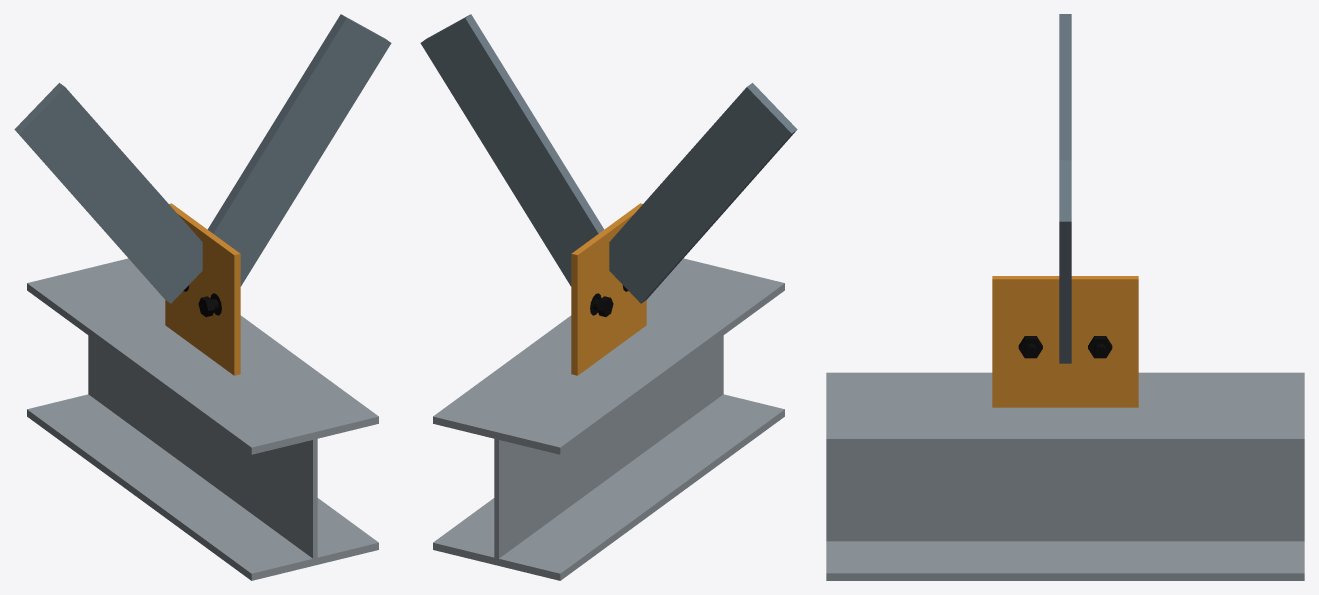
File: detail_F_bracing_connection.obj
The picture shows the model from 3 angles, left to right: view 1: azimuth 30°, elevation 25°; view 2: azimuth 150°, elevation 25°; view 3: azimuth 270°, elevation 25°; orthographic projection. The views are drawn at different scales.
Visible parts, largest first — view 1: F_column_flange_far, F_column_flange_near, F_column_web, F_L90x90x8_brace_right, F_L90x90x8_brace_left, F_PL10_gusset_plate; view 2: F_column_flange_far, F_column_flange_near, F_column_web, F_L90x90x8_brace_right, F_L90x90x8_brace_left, F_PL10_gusset_plate; view 3: F_column_web, F_column_flange_far, F_column_flange_near, F_PL10_gusset_plate, F_L90x90x8_brace_right, F_L90x90x8_brace_left.
Part boxes in pixels (x1=…): F_column_flange_far: x1=27, y1=258, x2=378, y2=454; F_column_flange_near: x1=27, y1=394, x2=378, y2=580; F_column_web: x1=88, y1=335, x2=317, y2=558; F_L90x90x8_brace_right: x1=196, y1=14, x2=391, y2=286; F_L90x90x8_brace_left: x1=14, y1=83, x2=202, y2=303; F_PL10_gusset_plate: x1=165, y1=203, x2=240, y2=375; F_column_flange_far: x1=433, y1=258, x2=784, y2=454; F_column_flange_near: x1=433, y1=394, x2=784, y2=580; F_column_web: x1=494, y1=335, x2=723, y2=558; F_L90x90x8_brace_right: x1=420, y1=14, x2=615, y2=286; F_L90x90x8_brace_left: x1=609, y1=83, x2=797, y2=303; F_PL10_gusset_plate: x1=571, y1=203, x2=646, y2=375; F_column_web: x1=826, y1=446, x2=1304, y2=541; F_column_flange_far: x1=826, y1=372, x2=1304, y2=446; F_column_flange_near: x1=826, y1=541, x2=1304, y2=580; F_PL10_gusset_plate: x1=992, y1=276, x2=1138, y2=407; F_L90x90x8_brace_right: x1=1059, y1=160, x2=1071, y2=363; F_L90x90x8_brace_left: x1=1059, y1=14, x2=1071, y2=160.
Bounding box in the file's own units: 592 × 659 × 620.
